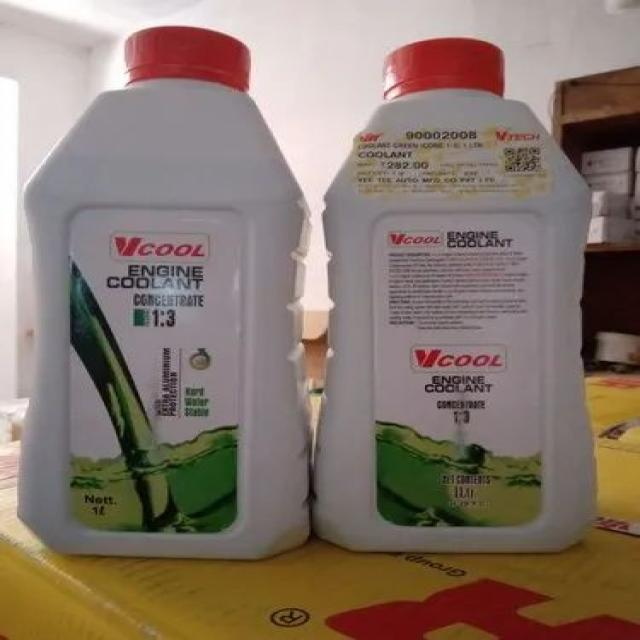coolant: (11, 27, 316, 555), (328, 35, 600, 556)
